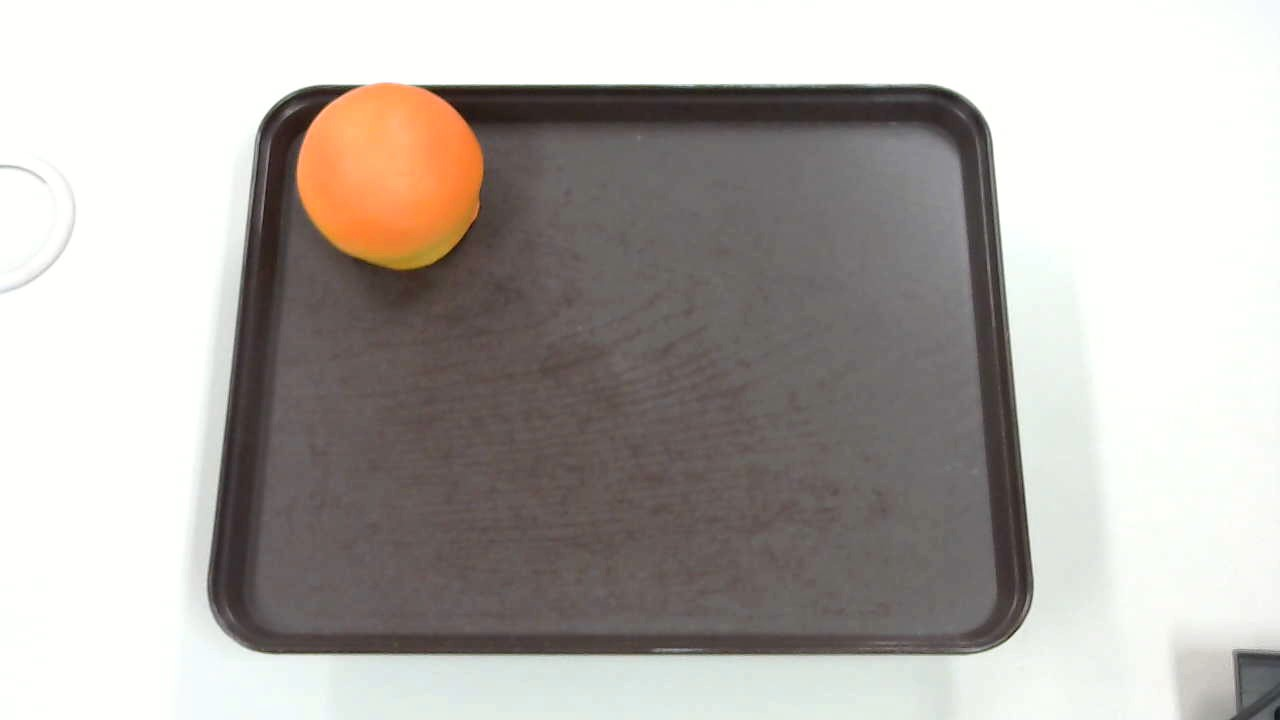bun: (295, 82, 484, 270)
